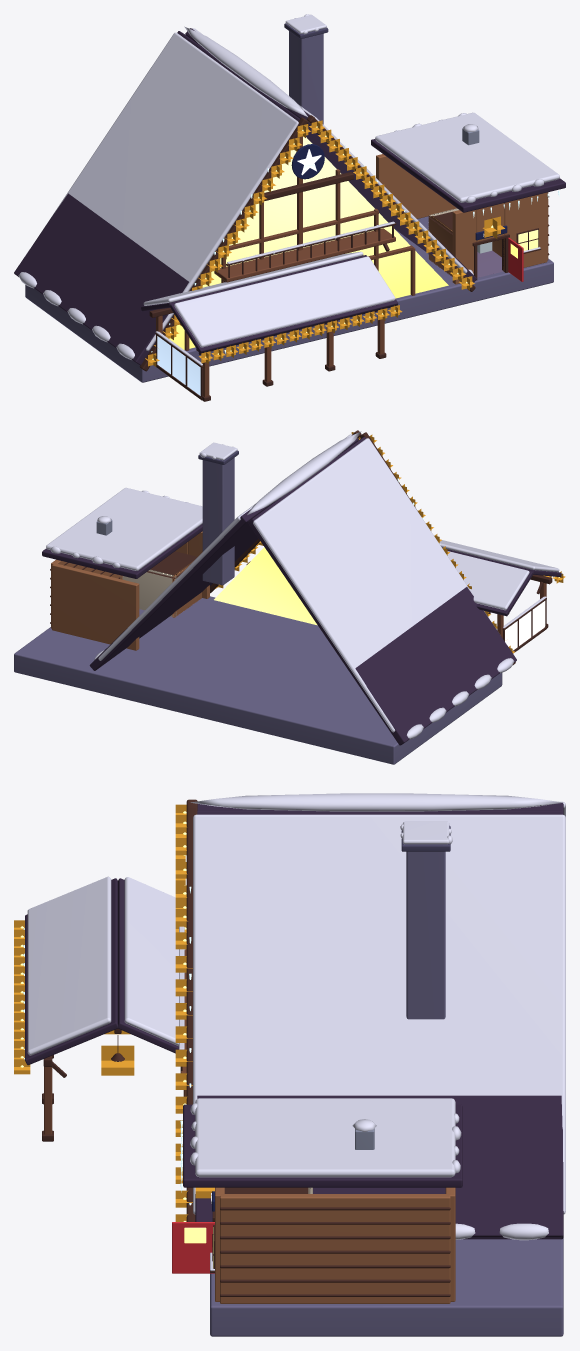
Rendered from frost_lodge.glb.
3 views of the same model, one above another, from view 1: azimuth 30°, elevation 25°; view 2: azimuth 150°, elevation 25°; view 3: azimuth 270°, elevation 25° (orthographic). The views are drawn at different scales.
Parts seen in each view (by area): view 1: Lodge; view 2: Lodge; view 3: Lodge.
Boxes of the visible parts, <box> form: Lodge: <box>14,14,565,401</box>; Lodge: <box>14,430,565,764</box>; Lodge: <box>14,793,565,1336</box>.
Size of the model in its own units: 30.38 by 17 by 22.49.
